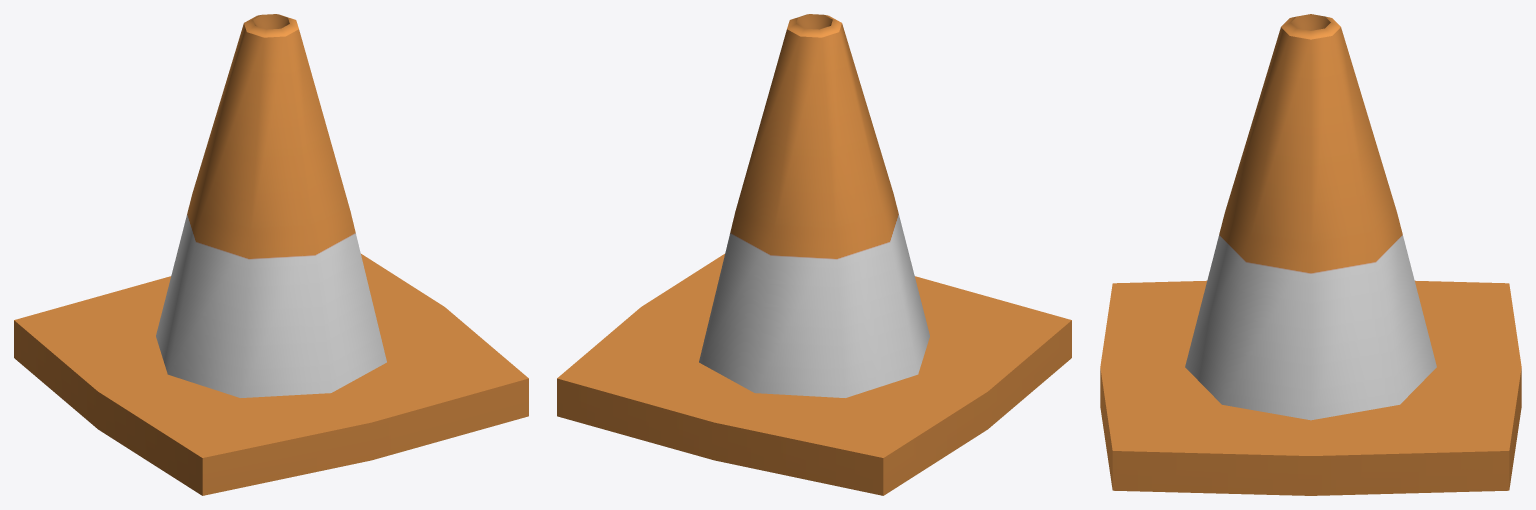
File: pilon.fbx
3 views of the same model, side by side, from view 1: azimuth 30°, elevation 25°; view 2: azimuth 150°, elevation 25°; view 3: azimuth 270°, elevation 25° (orthographic). The views are drawn at different scales.
Visible parts, largest first — view 1: pilon; view 2: pilon; view 3: pilon.
Part boxes in pixels (left/top/right/bottom): pilon: left=14, top=14, right=528, bottom=495; pilon: left=557, top=14, right=1071, bottom=495; pilon: left=1100, top=14, right=1521, bottom=495.
Size of the model in its own units: 1.1 by 1.11 by 1.1.
Materials: 1 (1 with a texture image).
